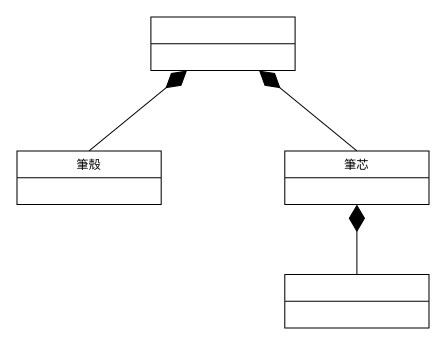
Some shapes in this 446 by 345 pixel diagram are drawn without their labels. Each missing label, with the centre of its shape:
原子筆: the point at 222,43
墨水: the point at 356,300
